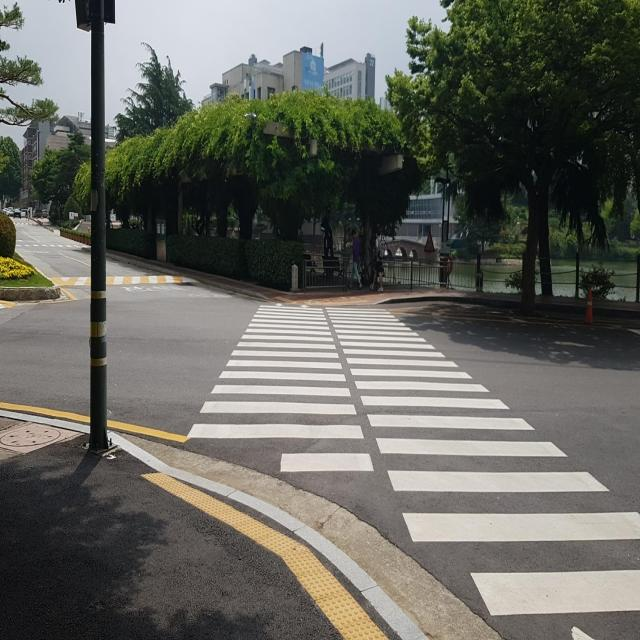횡단보도: (186, 301, 640, 639)
